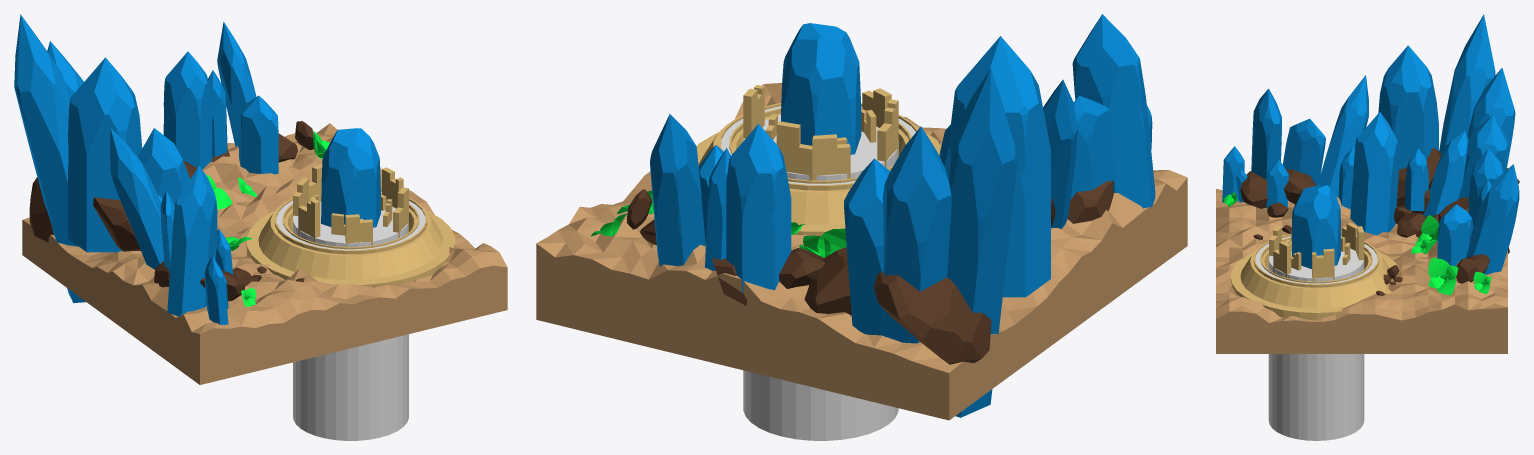
The model's file is Desert_and_almaz.fbx.
The picture shows the model from 3 angles, left to right: view 1: azimuth 30°, elevation 25°; view 2: azimuth 150°, elevation 25°; view 3: azimuth 270°, elevation 25°; orthographic projection. The views are drawn at different scales.
Parts seen in each view (by area): view 1: Plane, Circle.001, Circle, Cylinder.008, Cylinder.012, Cylinder.003, Cylinder.018, Cylinder, Cylinder.015, Circle.003, Cylinder.002, Cylinder.017 (+9 smaller); view 2: Plane, Cylinder.012, Cylinder.008, Cylinder.013, Cylinder, Cylinder.003, Circle.001, Cylinder.018, Roundcube.004, Cylinder.017, Cylinder.011, Circle.003 (+12 smaller); view 3: Plane, Circle.001, Circle, Cylinder.008, Cylinder.014, Cylinder.012, Cylinder.017, Cylinder.018, Cylinder.015, Cylinder.003, Cylinder.009, Circle.003 (+18 smaller).
Part boxes in pixels (bbox=[...]): Plane: bbox=[22, 123, 507, 384]; Circle.001: bbox=[293, 202, 408, 440]; Circle: bbox=[246, 189, 455, 287]; Cylinder.008: bbox=[68, 57, 142, 252]; Cylinder.012: bbox=[14, 14, 85, 303]; Cylinder.003: bbox=[167, 165, 217, 316]; Cylinder.018: bbox=[321, 128, 380, 227]; Cylinder: bbox=[163, 51, 212, 169]; Cylinder.015: bbox=[110, 128, 164, 269]; Circle.003: bbox=[293, 164, 408, 246]; Cylinder.002: bbox=[239, 95, 278, 174]; Cylinder.017: bbox=[217, 22, 256, 146]; Plane: bbox=[536, 83, 1187, 420]; Cylinder.012: bbox=[944, 68, 1017, 417]; Cylinder.008: bbox=[950, 36, 1050, 297]; Cylinder.013: bbox=[881, 126, 951, 343]; Cylinder: bbox=[726, 124, 791, 292]; Cylinder.003: bbox=[1072, 14, 1155, 208]; Circle.001: bbox=[743, 115, 898, 440]; Cylinder.018: bbox=[781, 23, 861, 154]; Roundcube.004: bbox=[874, 271, 991, 364]; Cylinder.017: bbox=[650, 114, 705, 266]; Cylinder.011: bbox=[844, 158, 889, 337]; Circle.003: bbox=[743, 85, 898, 180]; Plane: bbox=[1216, 189, 1507, 353]; Circle.001: bbox=[1268, 241, 1364, 440]; Circle: bbox=[1230, 234, 1398, 320]; Cylinder.008: bbox=[1378, 45, 1438, 169]; Cylinder.014: bbox=[1350, 112, 1398, 235]; Cylinder.012: bbox=[1439, 14, 1495, 154]; Cylinder.017: bbox=[1466, 164, 1519, 274]; Cylinder.018: bbox=[1292, 185, 1340, 268]; Cylinder.015: bbox=[1317, 75, 1368, 197]; Cylinder.003: bbox=[1251, 88, 1281, 180]; Cylinder.009: bbox=[1423, 131, 1468, 216]; Circle.003: bbox=[1269, 223, 1364, 281].
Size of what is drawn, in the model's own units: 872 by 953 by 833.
